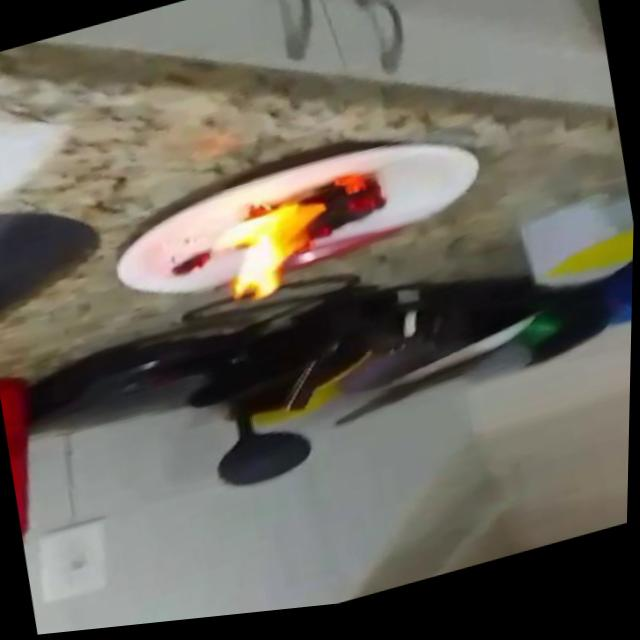Fire: (213, 170, 403, 314)
